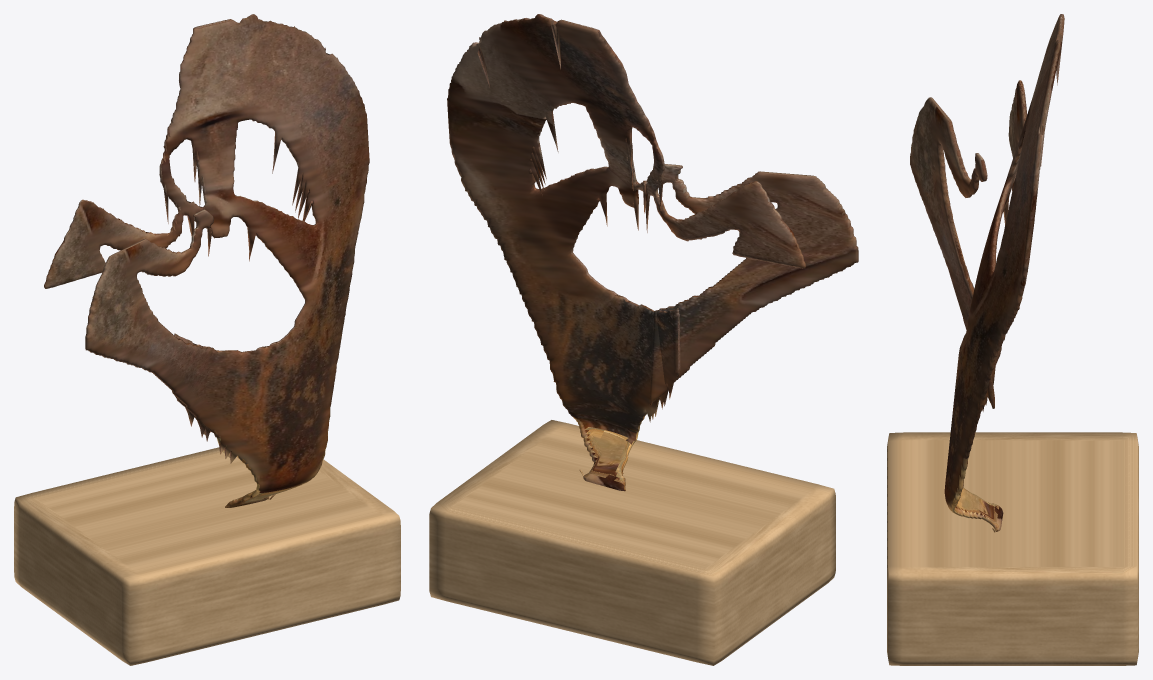
File: escultura-esc-035.glb
The picture shows the model from 3 angles, left to right: view 1: azimuth 30°, elevation 25°; view 2: azimuth 150°, elevation 25°; view 3: azimuth 270°, elevation 25°; orthographic projection. The views are drawn at different scales.
Parts seen in each view (by area): view 1: world; view 2: world; view 3: world.
Boxes of the visible parts, bbox=[...] form: world: bbox=[14, 14, 400, 665]; world: bbox=[429, 14, 858, 665]; world: bbox=[887, 14, 1138, 665].
Size of the model in its own units: 0.3093 by 0.4793 by 0.1865.
Materials: 1 (1 with a texture image).
